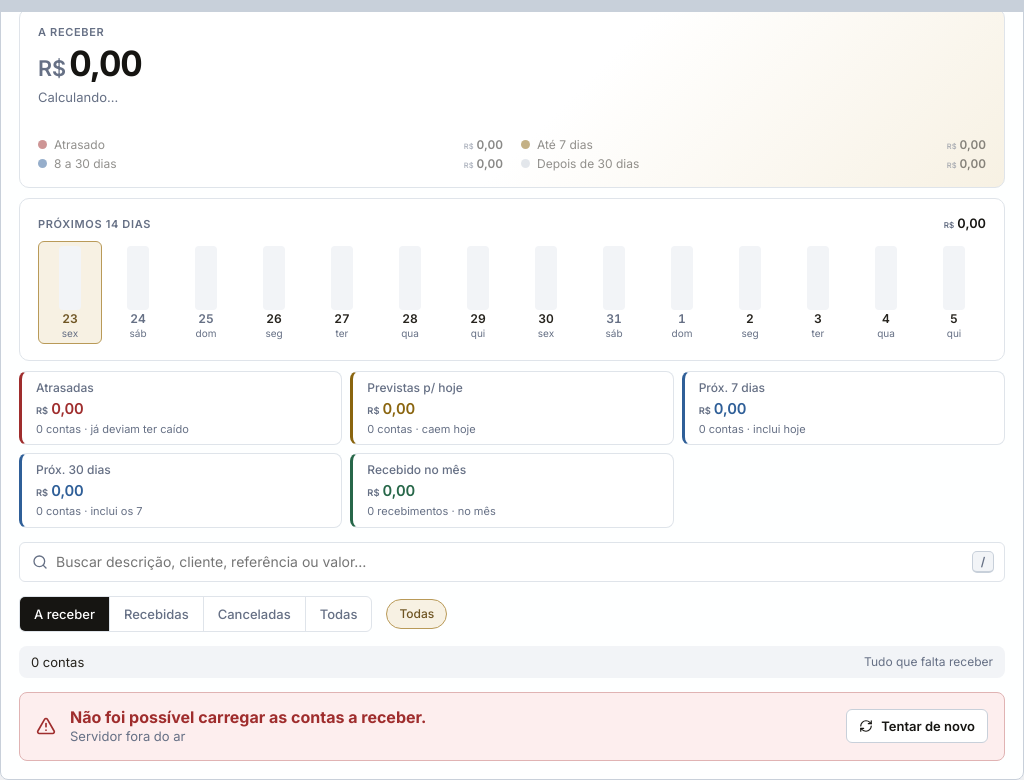
Test: Contas a Receber — panorama e lista › falha de carga mostra o erro com 'Tentar de novo'
(page scrolled)
Check: the text "Servidor fora do ar" is shown, box [70,728,186,744]
Click the button "Tentar de novo".
click(917, 726)  # box [846,709,988,743]
(page scrolled)
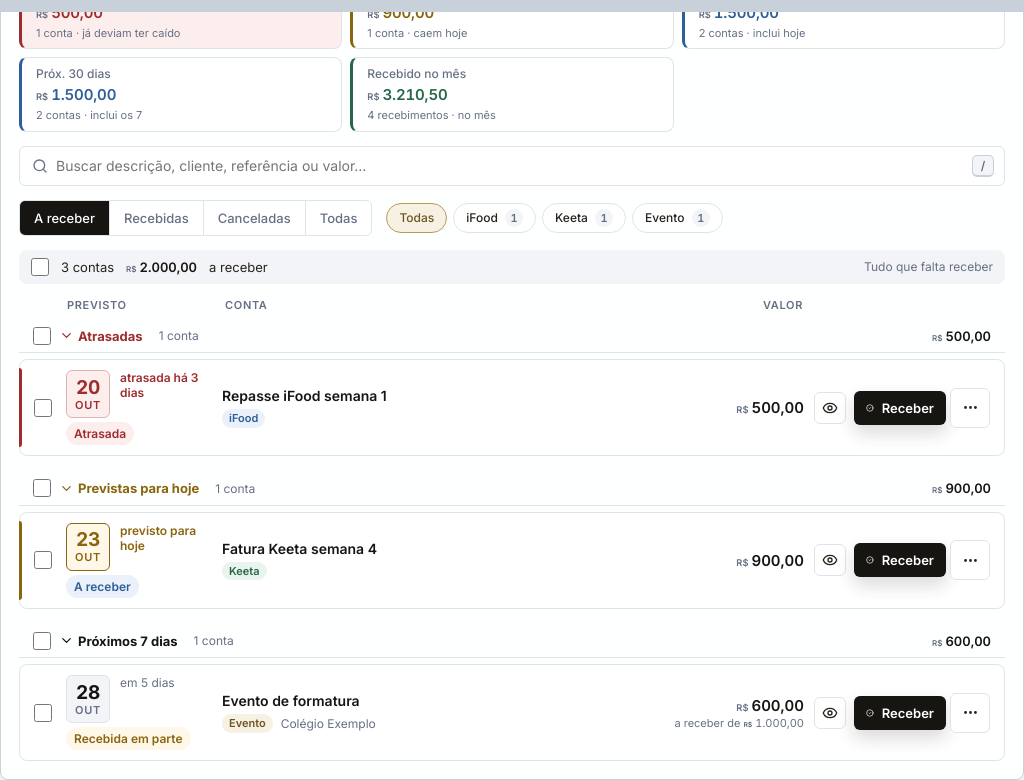
Check: the text "Repasse iFood semana 1" is shown, box [222,387,387,404]
